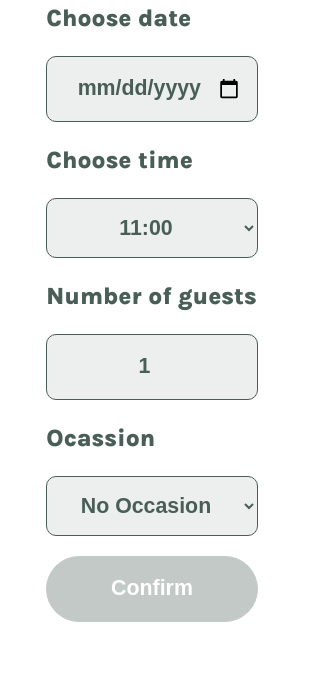
Test: JavaScript validation is applied to BookingForm fields › user should not be able to submit form when reserving a table for less than one person
In the date field labelled "Choose date": (152, 89) [46,56,258,122], type "2030-01-11"
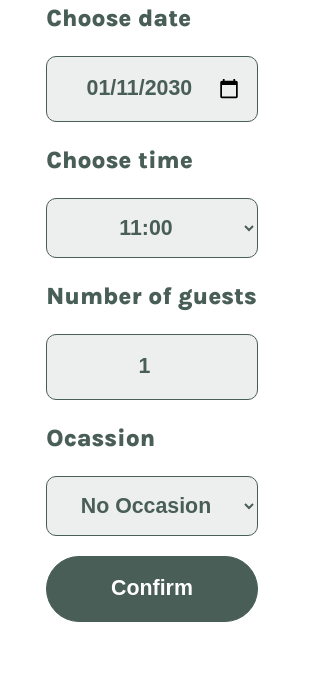
Select "11:00" in the dropdown labelled "Choose time": (152, 228) [46,198,258,258]
Replace the text in the number field labelled "Number of guests" with "0": (152, 367) [46,334,258,400]
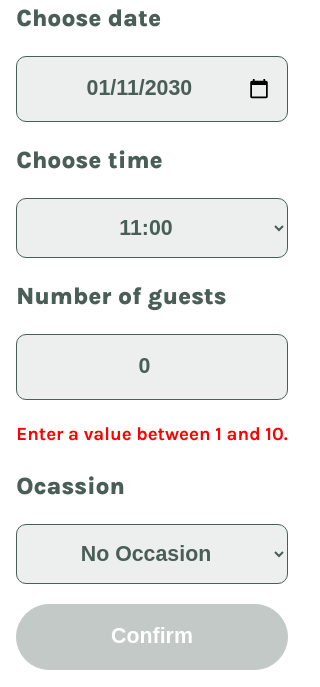
Expected: the text "Enter a value between 1 and 10." is shown, [16,420,288,448]
